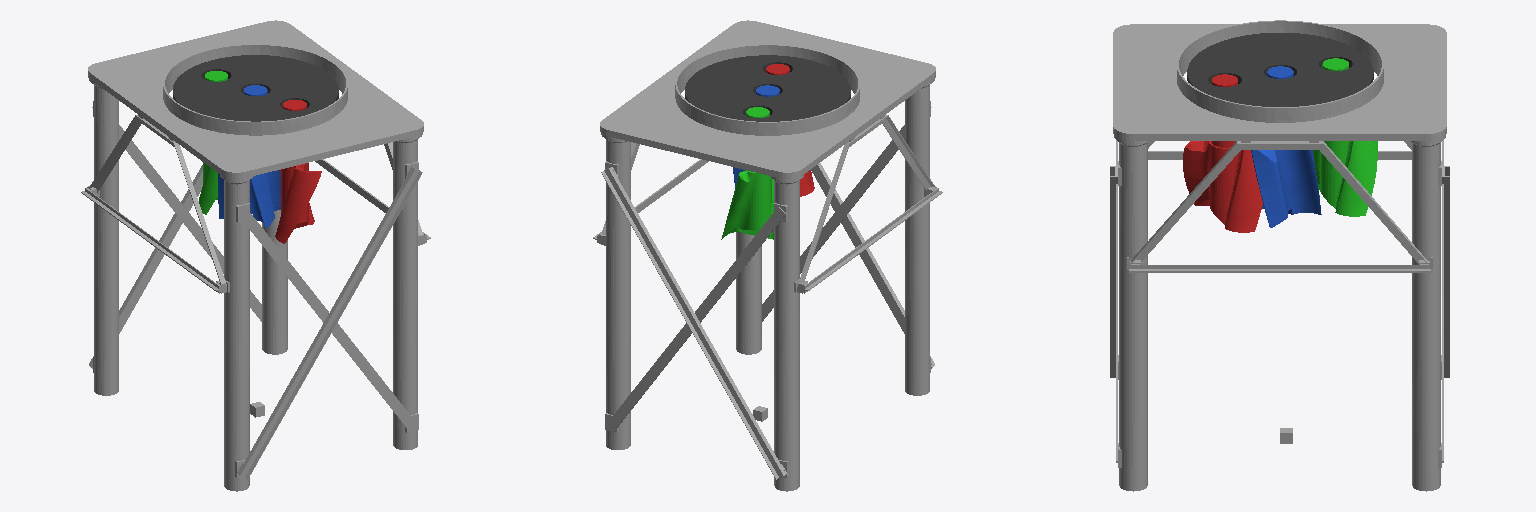
robot.urdf — vertical_planetary_mixer:
<?xml version="1.0"?>
<robot name="vertical_planetary_mixer" xmlns:xacro="http://www.ros.org/wiki/xacro">

  <!-- ===== Materials ===== -->
  <material name="grey">      <color rgba="0.7 0.7 0.7 1.0"/> </material>
  <material name="dark_grey"> <color rgba="0.3 0.3 0.3 1.0"/> </material>
  <material name="blue">      <color rgba="0.2 0.4 0.8 1.0"/> </material>
  <material name="red">       <color rgba="0.8 0.2 0.2 1.0"/> </material>
  <material name="green">     <color rgba="0.2 0.8 0.2 1.0"/> </material>

  <!-- ===== World (fixed root) ===== -->
  <link name="world"/>

  <joint name="world_joint" type="fixed">
    <parent link="world"/>
    <child  link="base_link"/>
    <origin xyz="0 0 0" rpy="0 0 0"/>
  </joint>

  <!-- ===== Base / Frame Structure ===== -->
  <link name="base_link">
    <inertial>
      <origin xyz="0 0 0.25" rpy="0 0 0"/>
      <mass value="50.0"/>
      <inertia ixx="5.0" ixy="0.0" ixz="0.0"
               iyy="5.0" iyz="0.0" izz="4.0"/>
    </inertial>
    <visual>
      <origin xyz="0 0 0" rpy="0 0 0"/>
      <geometry>
        <mesh filename="package://ur10e_simulation_pkg/meshes/structure.stl" scale="1 1 1"/>
      </geometry>
      <material name="grey"/>
    </visual>
    <collision>
      <origin xyz="0 0 0" rpy="0 0 0"/>
      <geometry>
        <mesh filename="package://ur10e_simulation_pkg/meshes/structure.stl" scale="1 1 1"/>
      </geometry>
    </collision>
  </link>

  <!-- ===== Shroud (outer rotating bowl/cover) ===== -->
  <link name="shroud_link">
    <inertial>
      <!-- CoM in local frame, centred vertically on the shroud geometry -->
      <origin xyz="0 0 0.15" rpy="0 0 0"/>
      <mass value="3.0"/>
      <inertia ixx="0.0975" ixy="0.0" ixz="0.0"
               iyy="0.0975" iyz="0.0" izz="0.054"/>
    </inertial>
    <visual>
      <origin xyz="0 0 0" rpy="0 0 0"/>
      <geometry>
        <mesh filename="package://ur10e_simulation_pkg/meshes/shroud.stl" scale="1 1 1"/>
      </geometry>
      <material name="dark_grey"/>
    </visual>
    <collision>
      <origin xyz="0 0 0" rpy="0 0 0"/>
      <geometry>
        <mesh filename="package://ur10e_simulation_pkg/meshes/shroud.stl" scale="1 1 1"/>
      </geometry>
    </collision>
  </link>

  <joint name="shroud_joint" type="continuous">
    <parent link="base_link"/>
    <child  link="shroud_link"/>
    <origin xyz="0 0 0" rpy="0 0 0"/>
    <axis xyz="0 0 1"/>
    <dynamics damping="0.5" friction="0.1"/>
  </joint>

  <!-- ===== Sun Gear / Central Blade ===== -->
  <link name="sun_link">
    <inertial>
      <!-- CoM in local frame, centred vertically on the sun geometry -->
      <origin xyz="0 0 0.10" rpy="0 0 0"/>
      <mass value="2.0"/>
      <inertia ixx="0.012" ixy="0.0" ixz="0.0"
               iyy="0.012" iyz="0.0" izz="0.008"/>
    </inertial>
    <visual>
      <origin xyz="0 0 0" rpy="0 0 0"/>
      <geometry>
        <mesh filename="package://ur10e_simulation_pkg/meshes/middle_blade.stl" scale="1 1 1"/>
      </geometry>
      <material name="blue"/>
    </visual>
    <collision>
      <origin xyz="0 0 0" rpy="0 0 0"/>
      <geometry>
        <mesh filename="package://ur10e_simulation_pkg/meshes/middle_blade.stl" scale="1 1 1"/>
      </geometry>
    </collision>
  </link>

  <joint name="sun_joint" type="continuous">
    <parent link="base_link"/>
    <child  link="sun_link"/>
    <origin xyz="0 0 0" rpy="0 0 0"/>
    <axis xyz="0 0 1"/>
    <dynamics damping="0.2" friction="0.05"/>
  </joint>

  <!-- ===== Planet 1 — Carrier (massless orbit pivot) ===== -->
  <link name="planet_1_carrier">
    <inertial>
      <origin xyz="0 0 0" rpy="0 0 0"/>
      <mass value="0.001"/>
      <inertia ixx="1e-6" ixy="0.0" ixz="0.0"
               iyy="1e-6" iyz="0.0" izz="1e-6"/>
    </inertial>
  </link>

  <joint name="planet_1_orbit_joint" type="continuous">
    <parent link="base_link"/>
    <child  link="planet_1_carrier"/>
    <origin xyz="0 0 0" rpy="0 0 0"/>
    <axis xyz="0 0 1"/>
    <dynamics damping="0.1" friction="0.02"/>
  </joint>

  <!-- Planet 1 blade link.
       The spin joint places the blade at the orbital radius
       (origin xyz="0.155943 -0.456764 0"), so all inertial and
       collision geometry is expressed in that local frame → CoM at (0 0 0.10). -->
  <link name="planet_1_link">
    <inertial>
      <origin xyz="0 0 0.10" rpy="0 0 0"/>
      <mass value="1.5"/>
      <inertia ixx="0.010" ixy="0.0" ixz="0.0"
               iyy="0.010" iyz="0.0" izz="0.004"/>
    </inertial>
    <visual>
      <!-- Visual origin compensates so the mesh sits at the correct
           world position after the joint offset is applied. -->
      <origin xyz="-0.155943 0.456764 0" rpy="0 0 0"/>
      <geometry>
        <mesh filename="package://ur10e_simulation_pkg/meshes/blade_1.stl" scale="1 1 1"/>
      </geometry>
      <material name="red"/>
    </visual>
    <collision>
      <origin xyz="-0.155943 0.456764 0" rpy="0 0 0"/>
      <geometry>
        <mesh filename="package://ur10e_simulation_pkg/meshes/blade_1.stl" scale="1 1 1"/>
      </geometry>
    </collision>
  </link>

  <joint name="planet_1_spin_joint" type="continuous">
    <parent link="planet_1_carrier"/>
    <child  link="planet_1_link"/>
    <origin xyz="0.155943 -0.456764 0" rpy="0 0 0"/>
    <axis xyz="0 0 1"/>
    <dynamics damping="0.1" friction="0.02"/>
  </joint>

  <!-- ===== Planet 2 — Carrier (massless orbit pivot) ===== -->
  <link name="planet_2_carrier">
    <inertial>
      <origin xyz="0 0 0" rpy="0 0 0"/>
      <mass value="0.001"/>
      <inertia ixx="1e-6" ixy="0.0" ixz="0.0"
               iyy="1e-6" iyz="0.0" izz="1e-6"/>
    </inertial>
  </link>

  <joint name="planet_2_orbit_joint" type="continuous">
    <parent link="base_link"/>
    <child  link="planet_2_carrier"/>
    <origin xyz="0 0 0" rpy="0 0 0"/>
    <axis xyz="0 0 1"/>
    <dynamics damping="0.1" friction="0.02"/>
  </joint>

  <!-- Planet 2 blade link — same fix as planet 1. -->
  <link name="planet_2_link">
    <inertial>
      <origin xyz="0 0 0.10" rpy="0 0 0"/>
      <mass value="1.5"/>
      <inertia ixx="0.010" ixy="0.0" ixz="0.0"
               iyy="0.010" iyz="0.0" izz="0.004"/>
    </inertial>
    <visual>
      <origin xyz="0.155847 -0.456481 0" rpy="0 0 0"/>
      <geometry>
        <mesh filename="package://ur10e_simulation_pkg/meshes/blade_2.stl" scale="1 1 1"/>
      </geometry>
      <material name="green"/>
    </visual>
    <collision>
      <origin xyz="0.155847 -0.456481 0" rpy="0 0 0"/>
      <geometry>
        <mesh filename="package://ur10e_simulation_pkg/meshes/blade_2.stl" scale="1 1 1"/>
      </geometry>
    </collision>
  </link>

  <joint name="planet_2_spin_joint" type="continuous">
    <parent link="planet_2_carrier"/>
    <child  link="planet_2_link"/>
    <origin xyz="-0.155847 0.456481 0" rpy="0 0 0"/>
    <axis xyz="0 0 1"/>
    <dynamics damping="0.1" friction="0.02"/>
  </joint>

  <!-- ===== ros2_control — position interfaces for all continuous joints ===== -->
  <ros2_control name="mixer_planetary_system" type="system">
    <hardware>
      <plugin>gazebo_ros2_control/GazeboSystem</plugin>
    </hardware>

    <joint name="sun_joint">
      <command_interface name="position"/>
      <state_interface name="position"/>
      <state_interface name="velocity"/>
    </joint>

    <joint name="shroud_joint">
      <command_interface name="position"/>
      <state_interface name="position"/>
      <state_interface name="velocity"/>
    </joint>

    <joint name="planet_1_orbit_joint">
      <command_interface name="position"/>
      <state_interface name="position"/>
      <state_interface name="velocity"/>
    </joint>
    <joint name="planet_1_spin_joint">
      <command_interface name="position"/>
      <state_interface name="position"/>
      <state_interface name="velocity"/>
    </joint>

    <joint name="planet_2_orbit_joint">
      <command_interface name="position"/>
      <state_interface name="position"/>
      <state_interface name="velocity"/>
    </joint>
    <joint name="planet_2_spin_joint">
      <command_interface name="position"/>
      <state_interface name="position"/>
      <state_interface name="velocity"/>
    </joint>
  </ros2_control>

  <!-- ===== Gazebo plugin — path resolved at launch time via find_package ===== -->
  <gazebo>
    <plugin name="gazebo_ros2_control"
            filename="libgazebo_ros2_control.so">
      <!-- Use $(find ur10e_simulation_pkg) in a xacro file, or resolve
           the path in your Python launch file and pass it in as an arg. -->
      <parameters>/home/nithish/ur10e_force_mode_ws/src/ur10e_simulation_pkg/config/controllers.yaml</parameters>
      <ros>
        <namespace>/mixer</namespace>
      </ros>
    </plugin>
  </gazebo>

</robot>

--- Facts derived from the render (not from the file) ---
The picture shows the robot from 3 angles, left to right: view 1: azimuth 30°, elevation 25°; view 2: azimuth 150°, elevation 25°; view 3: azimuth 270°, elevation 25°; orthographic projection.
Robot: vertical_planetary_mixer — 8 links, 7 joints (6 continuous, 1 fixed); root link world; default pose: all joints at 0.
Links seen in each view (by area): view 1: base_link, shroud_link, planet_1_link, sun_link, planet_2_link; view 2: base_link, shroud_link, planet_2_link; view 3: base_link, shroud_link, planet_1_link, sun_link, planet_2_link.
Boxes of the visible links, x1=… form: base_link: x1=81, y1=20, x2=430, y2=491; shroud_link: x1=173, y1=55, x2=338, y2=121; planet_1_link: x1=275, y1=100, x2=321, y2=243; sun_link: x1=218, y1=85, x2=280, y2=228; planet_2_link: x1=199, y1=71, x2=227, y2=214; base_link: x1=593, y1=20, x2=942, y2=491; shroud_link: x1=685, y1=55, x2=850, y2=121; planet_2_link: x1=721, y1=107, x2=773, y2=239; base_link: x1=1110, y1=20, x2=1449, y2=491; shroud_link: x1=1187, y1=33, x2=1373, y2=106; planet_1_link: x1=1183, y1=74, x2=1262, y2=232; sun_link: x1=1251, y1=66, x2=1321, y2=227; planet_2_link: x1=1313, y1=58, x2=1377, y2=216.
Bounding box of the posed robot: 2.3 × 2.81 × 3.41 m (x, y, z).
Meshes: 5 distinct files referenced, 5 mesh visuals loaded (5 binary STL).
